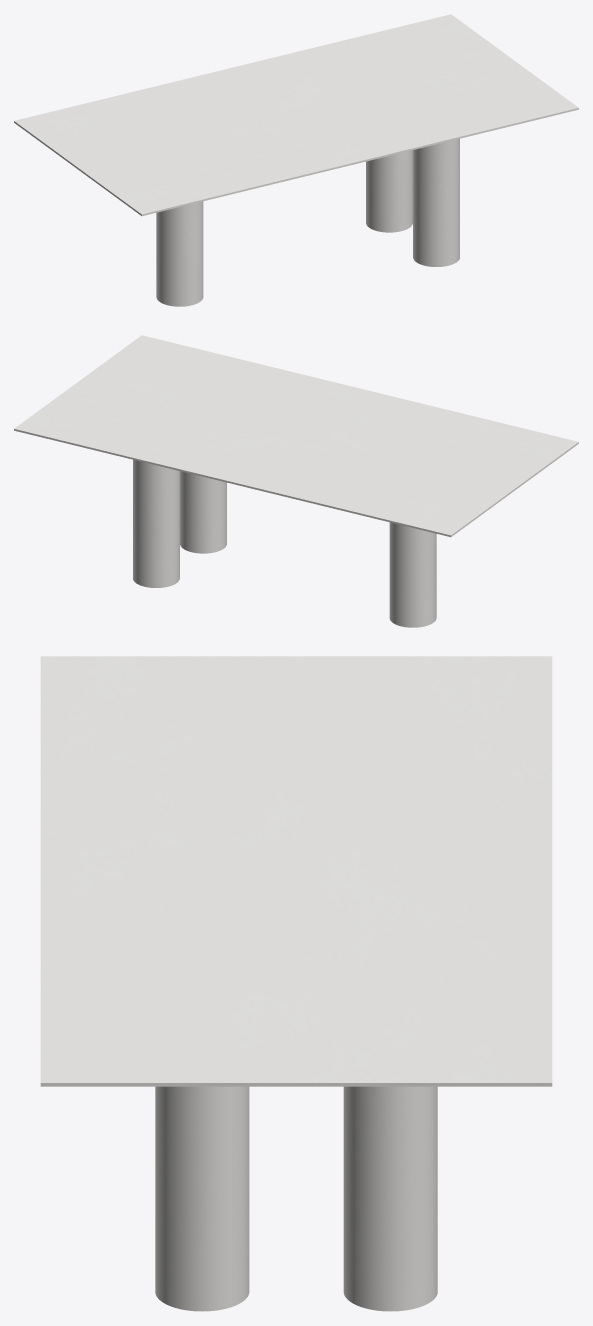
Rendered from purewhite_recta_facet_cylinder.glb.
3 views of the same model, one above another, from view 1: azimuth 30°, elevation 25°; view 2: azimuth 150°, elevation 25°; view 3: azimuth 270°, elevation 25° (orthographic). The views are drawn at different scales.
Parts seen in each view (by area): view 1: facet_recta, cylinder; view 2: facet_recta, cylinder; view 3: facet_recta, cylinder.
Part boxes in pixels (left/top/right/bottom): facet_recta: left=14, top=14, right=578, bottom=216; cylinder: left=156, top=138, right=459, bottom=306; facet_recta: left=14, top=335, right=578, bottom=537; cylinder: left=133, top=459, right=436, bottom=627; facet_recta: left=40, top=656, right=552, bottom=1086; cylinder: left=155, top=1086, right=437, bottom=1311.
Size of the model in its own units: 7.5 by 2.53 by 3.8.
Materials: 1 (1 with a texture image).
